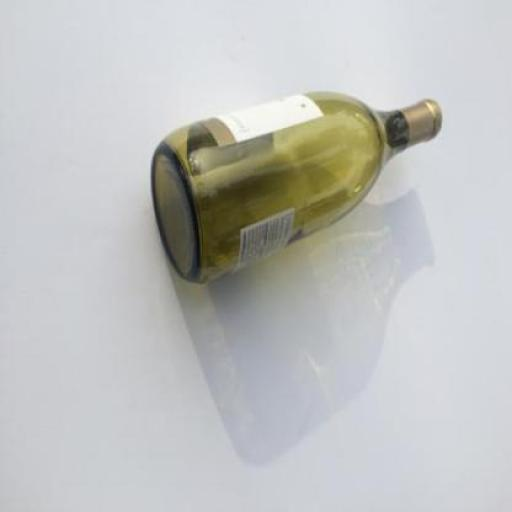glass: (152, 94, 442, 286)
